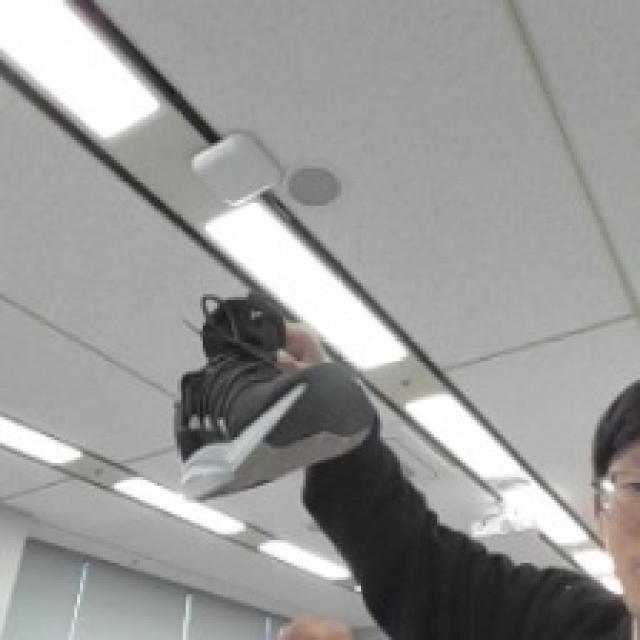shoe: (78, 255, 410, 498)
